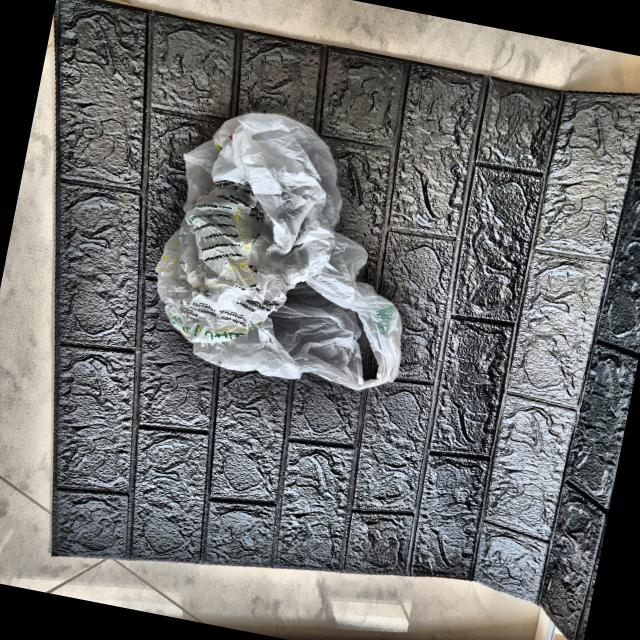plastic bag: (137, 102, 446, 402)
